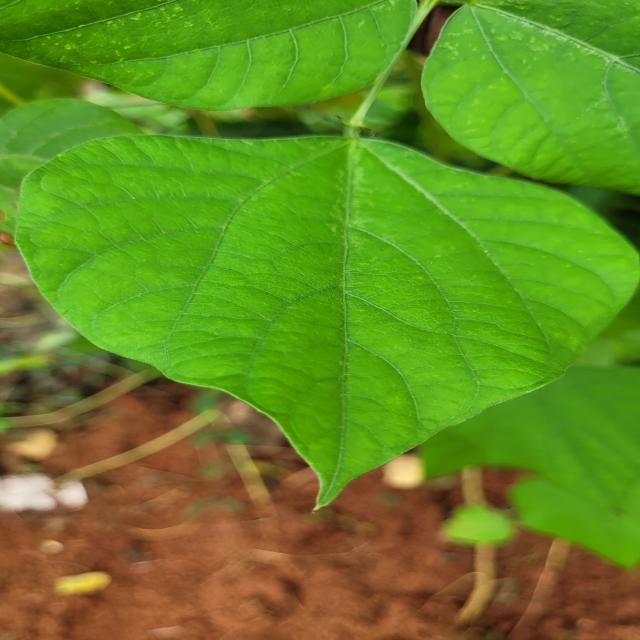Dolicos bean_healthy: (3, 132, 640, 499), (0, 0, 416, 134), (421, 0, 640, 196)
